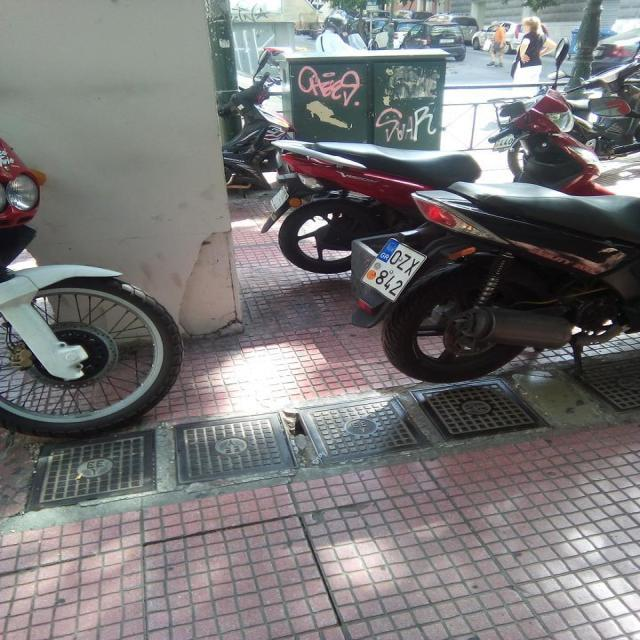nonspitting: (298, 66, 361, 106), (384, 65, 441, 105), (376, 106, 436, 142), (308, 100, 352, 130)
